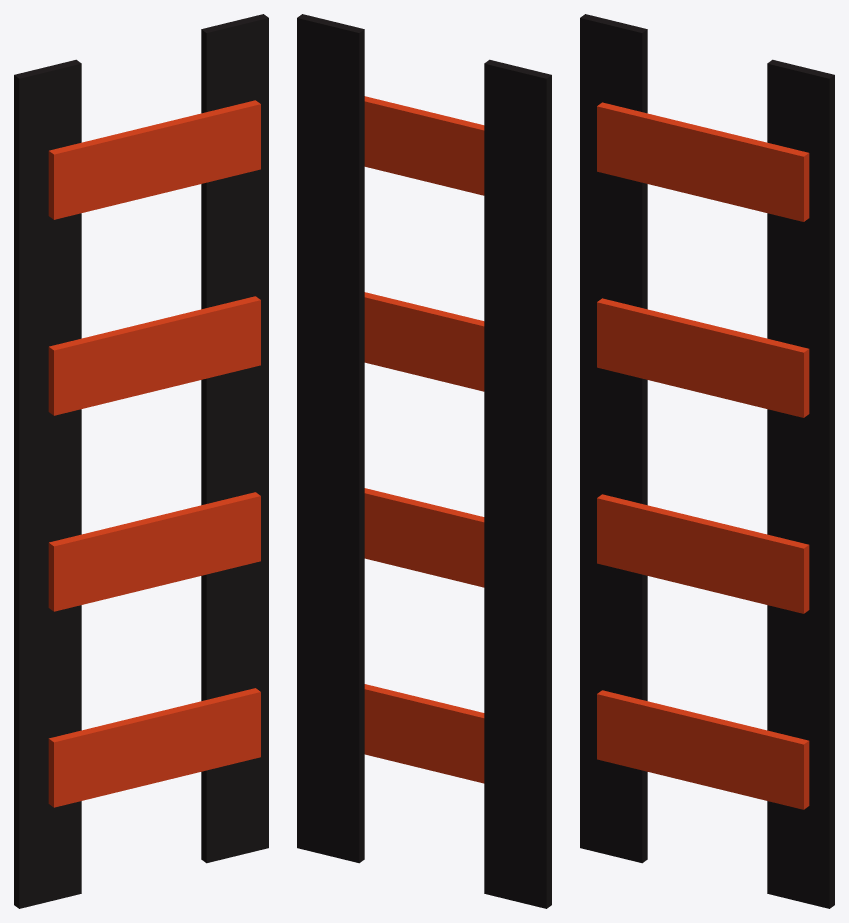
The model's file is Ladder.fbx.
3 views of the same model, side by side, from view 1: azimuth 30°, elevation 25°; view 2: azimuth 150°, elevation 25°; view 3: azimuth 330°, elevation 25° (orthographic).
Parts seen in each view (by area): view 1: Cube, Cube.001; view 2: Cube, Cube.001; view 3: Cube, Cube.001.
Boxes of the visible parts, x1,y1,x2,y2 form: Cube: [14, 14, 268, 908]; Cube.001: [48, 100, 260, 807]; Cube: [297, 14, 551, 908]; Cube.001: [364, 96, 484, 783]; Cube: [580, 14, 834, 908]; Cube.001: [597, 102, 809, 809].
Size of the model in its own units: 62.94 by 200 by 6.22.
